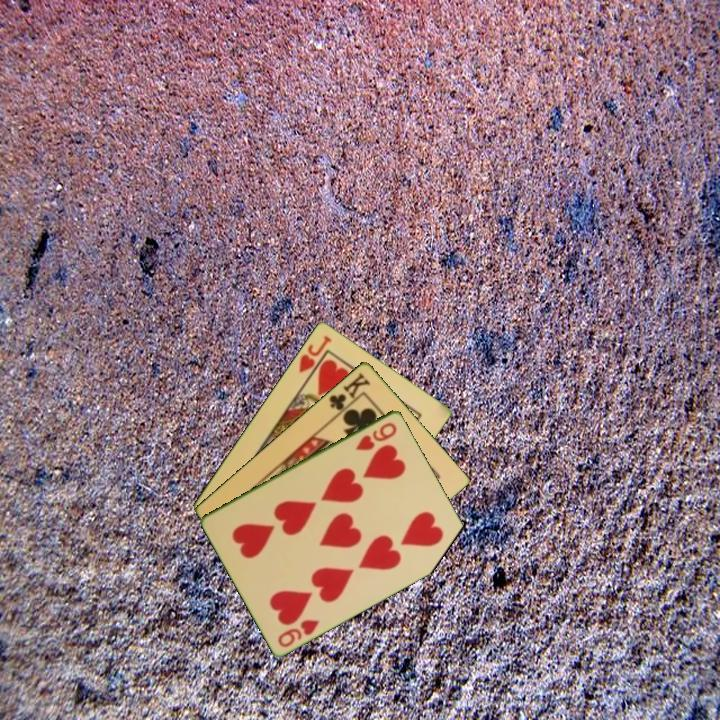9h: (352, 418, 400, 453), (274, 615, 322, 650)
Jh: (295, 331, 334, 383)
Kc: (325, 368, 373, 418)
